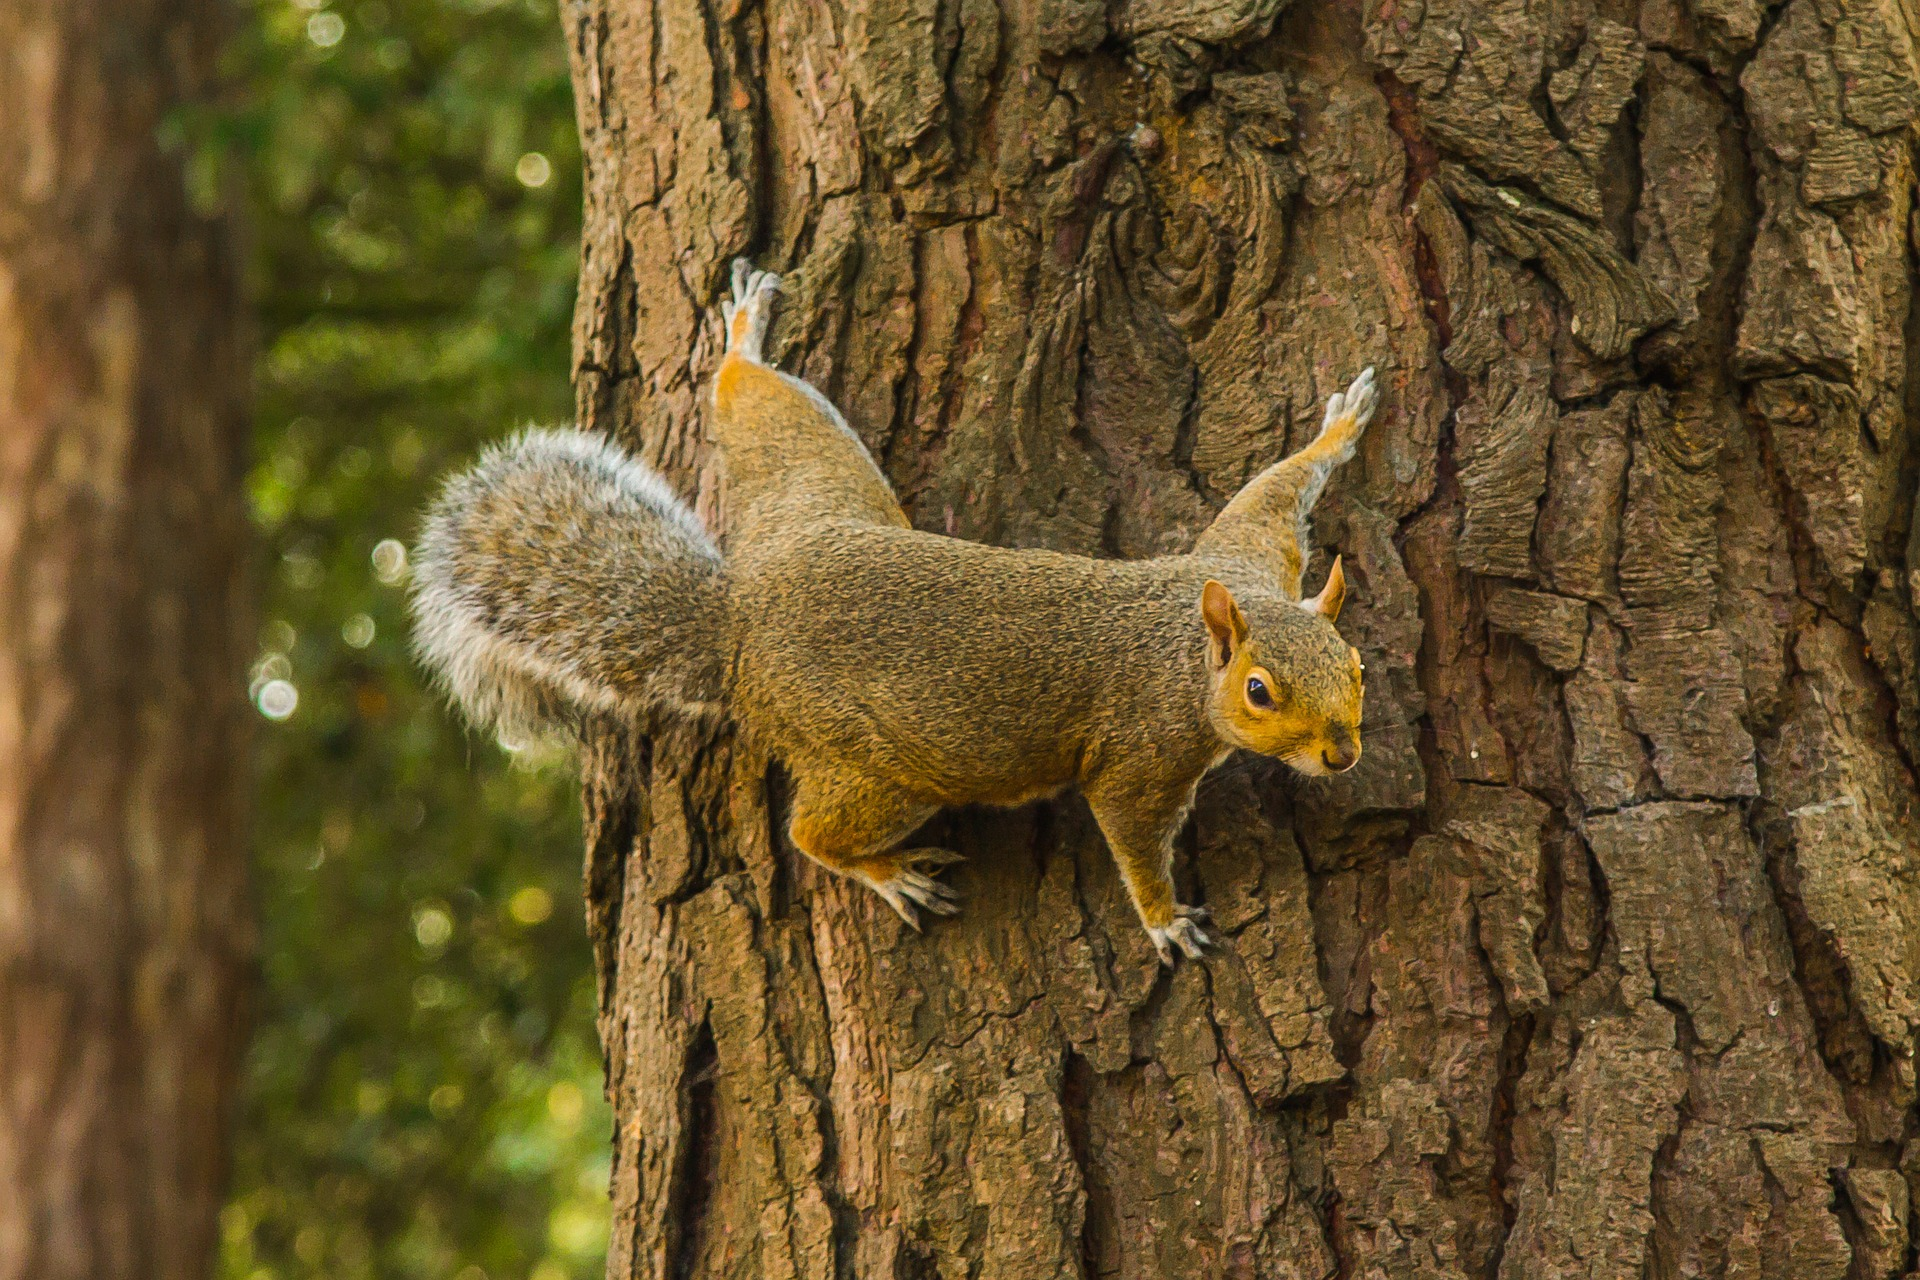squirrel: (401, 260, 1389, 971)
